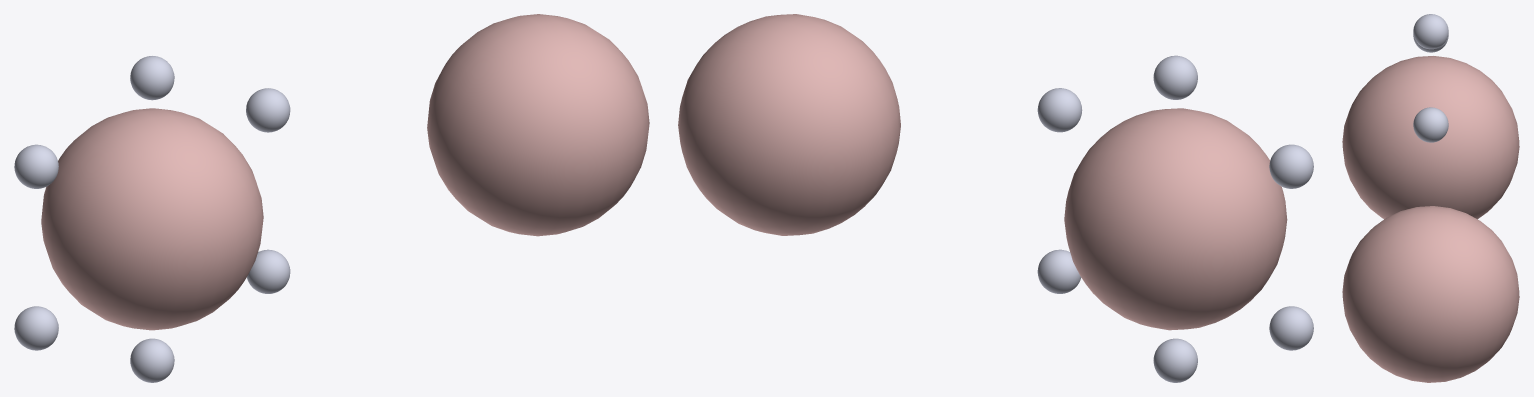
The model's file is Ebbinghaus_Small.fbx.
3 views of the same model, side by side, from view 1: azimuth 30°, elevation 25°; view 2: azimuth 150°, elevation 25°; view 3: azimuth 270°, elevation 25° (orthographic). The views are drawn at different scales.
Parts seen in each view (by area): view 1: Sphere__8_, Sphere__1_, Sphere__14_, Sphere__13_, Sphere__12_, Sphere__10_, Sphere__9_, Sphere__17_; view 2: Sphere__8_, Sphere__1_, Sphere__14_, Sphere__13_, Sphere__10_, Sphere__12_, Sphere__9_, Sphere__17_; view 3: Sphere__8_, Sphere__1_, Sphere__12_, Sphere__10_.
Boxes of the visible parts, box(x1,y1,x2,y2) form: Sphere__8_: box(427, 14, 649, 236); Sphere__1_: box(41, 108, 263, 330); Sphere__14_: box(14, 306, 58, 350); Sphere__13_: box(130, 338, 174, 382); Sphere__12_: box(246, 88, 290, 132); Sphere__10_: box(130, 56, 174, 100); Sphere__9_: box(14, 144, 58, 188); Sphere__17_: box(247, 249, 290, 293); Sphere__8_: box(678, 14, 900, 235); Sphere__1_: box(1064, 108, 1287, 330); Sphere__14_: box(1269, 306, 1313, 350); Sphere__13_: box(1153, 338, 1197, 382); Sphere__10_: box(1153, 55, 1197, 99); Sphere__12_: box(1037, 88, 1082, 132); Sphere__9_: box(1269, 144, 1313, 188); Sphere__17_: box(1037, 249, 1081, 293); Sphere__8_: box(1342, 206, 1519, 382); Sphere__1_: box(1342, 56, 1519, 219); Sphere__12_: box(1413, 107, 1448, 142); Sphere__10_: box(1413, 14, 1448, 49).
Bounding box in the file's own units: 320 × 160 × 99.72.
